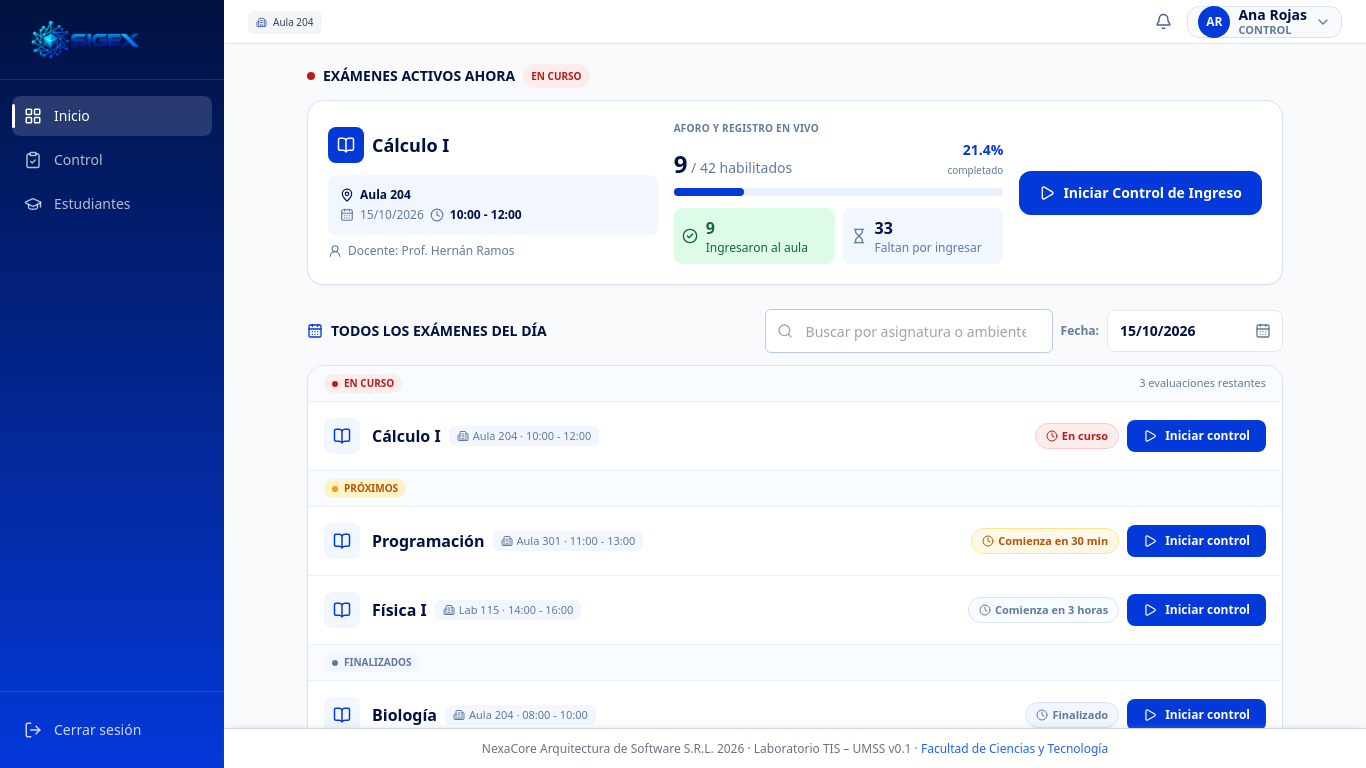
Test: ControlInicioPage › filtra los exámenes del día por asignatura o ambiente, sin los cancelados
Expected: the text "21.4%" is shown, [947, 140, 1003, 180]
In the search field with placeholder "Buscar por asignatura o ambiente...": (909, 331) [765, 309, 1053, 353], type "lab 115"
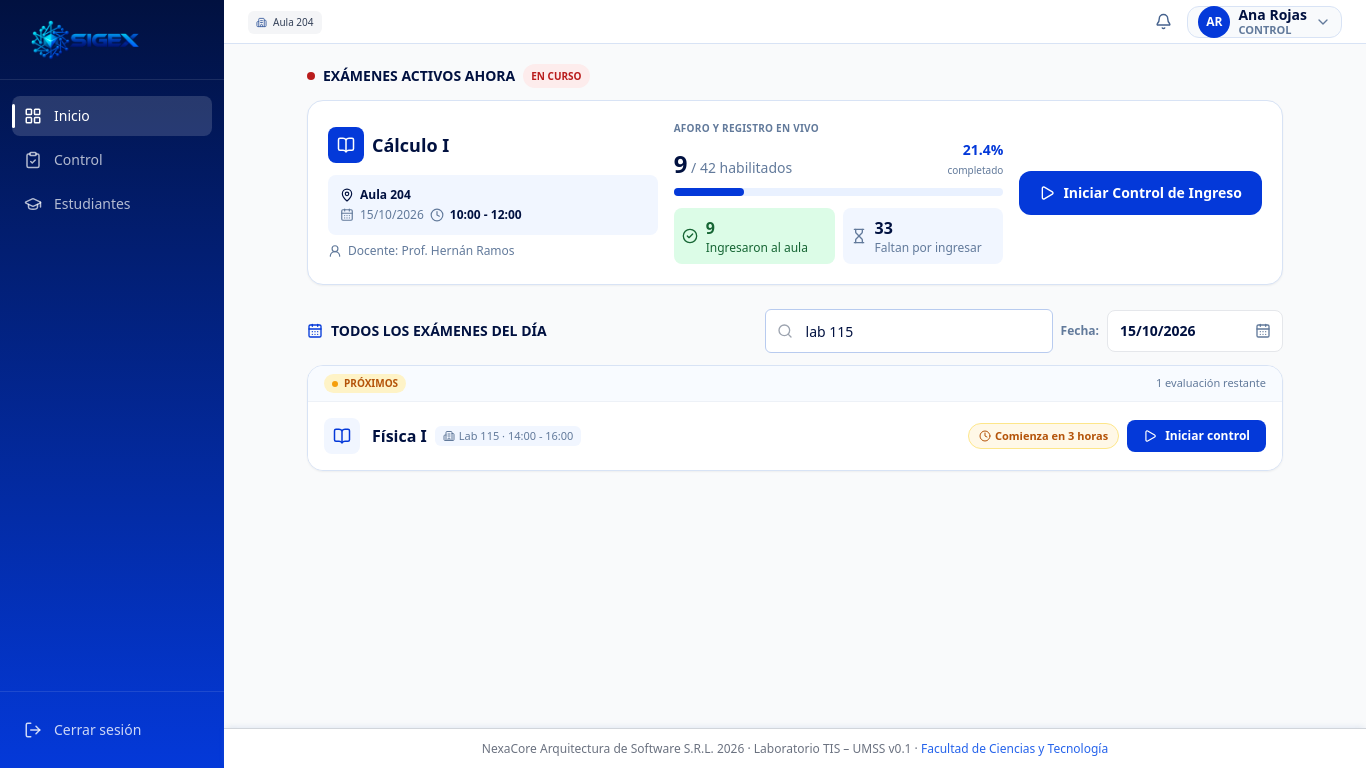
Replace the text in the search field with placeholder "Buscar por asignatura o ambiente..." with "algebra": (909, 331) [765, 309, 1053, 353]
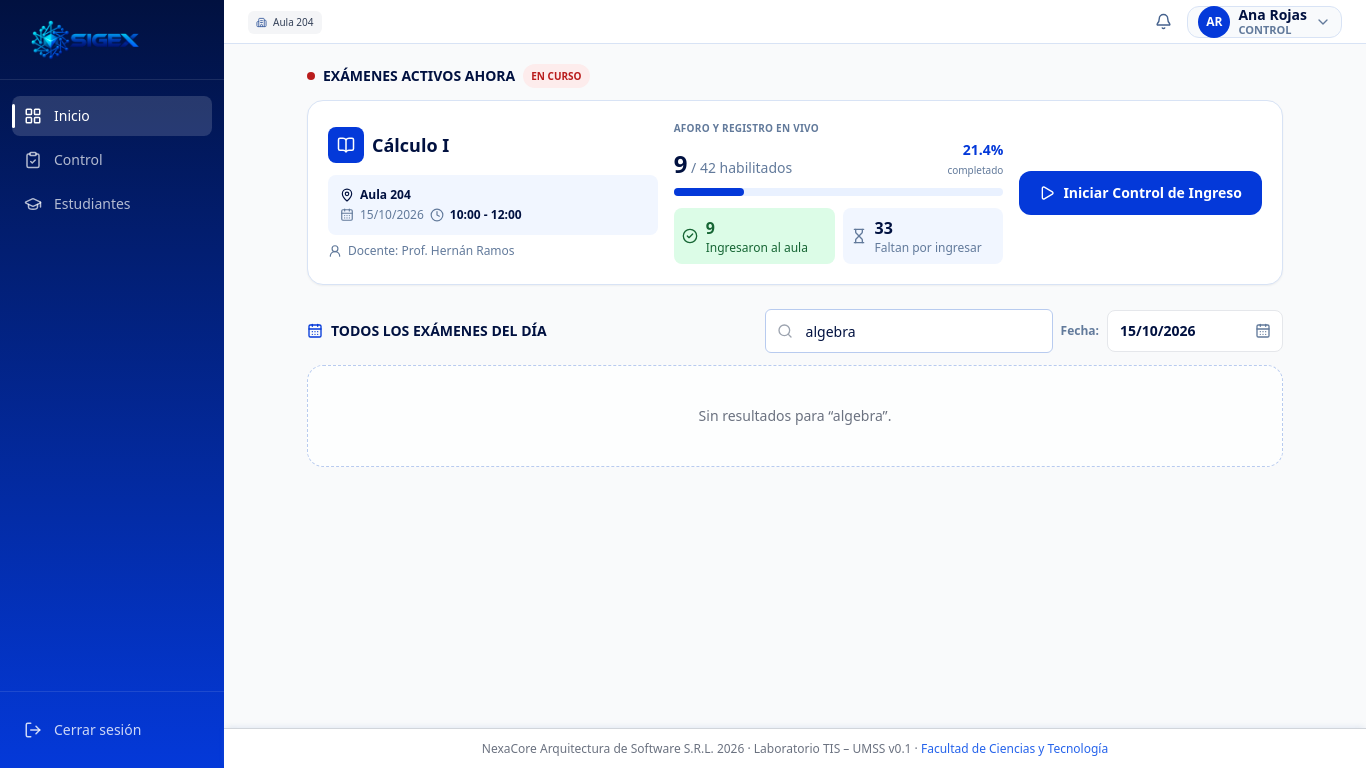
Expected: the text "Sin resultados para “algebra”." is shown, [307, 365, 1283, 467]
